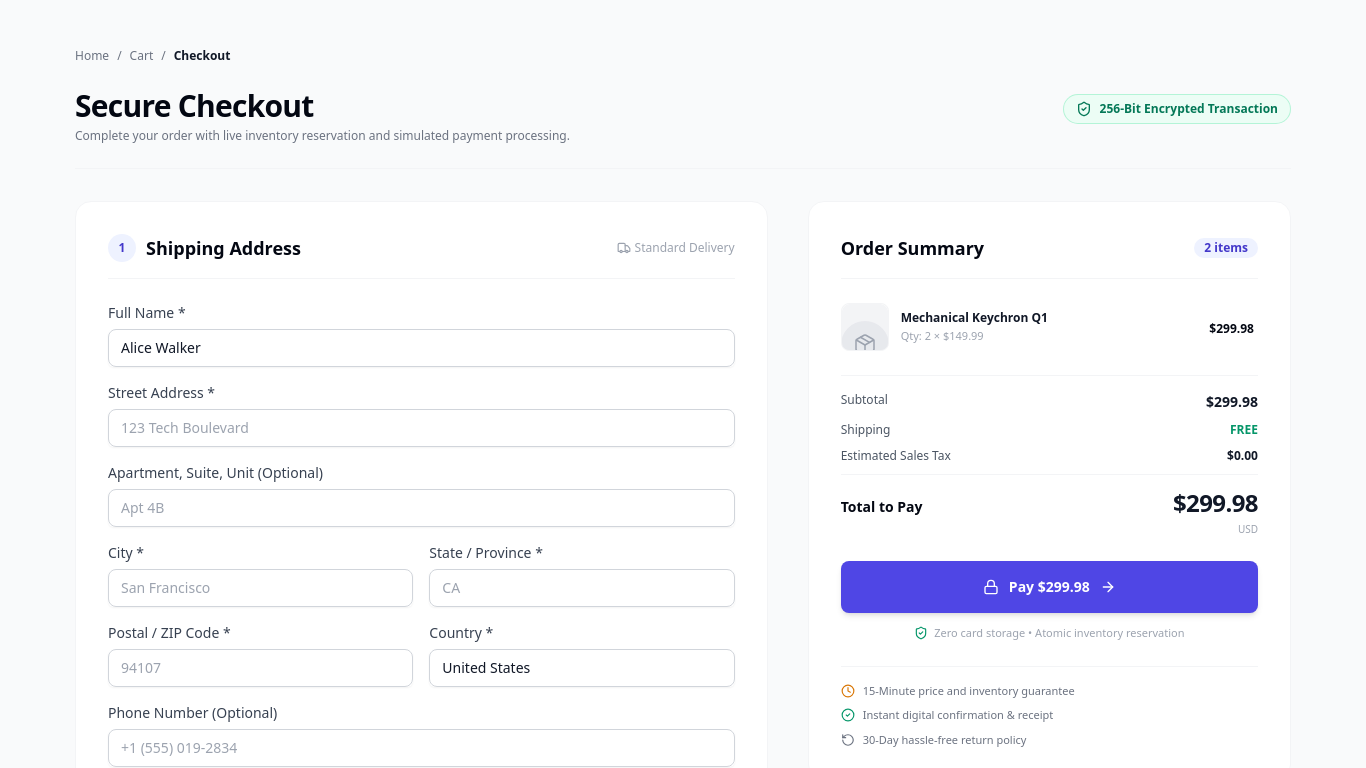
Checkout & Payment Integration (Phase 6) › submits checkout with shipping address and processes successful payment
This screenshot has width=1366, height=768.
Check: the heading "Secure Checkout" is shown, box [75,85,314,126]
Fill shipping address
Type "742 Evergreen Terrace" into the field labelled "Street Address *" at (421, 428), box [108,409,735,447]
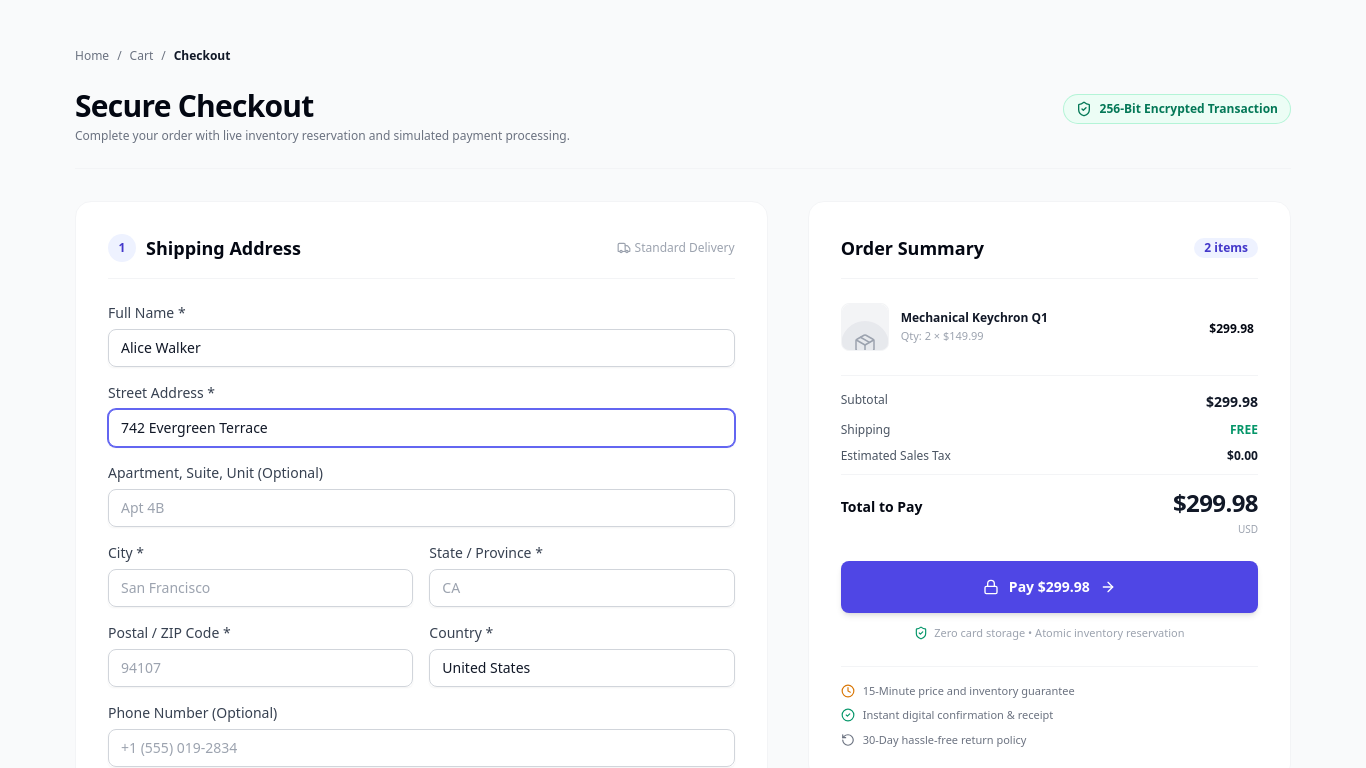
Type "Springfield" into the field labelled "City *" at (261, 588), box [108,569,413,607]
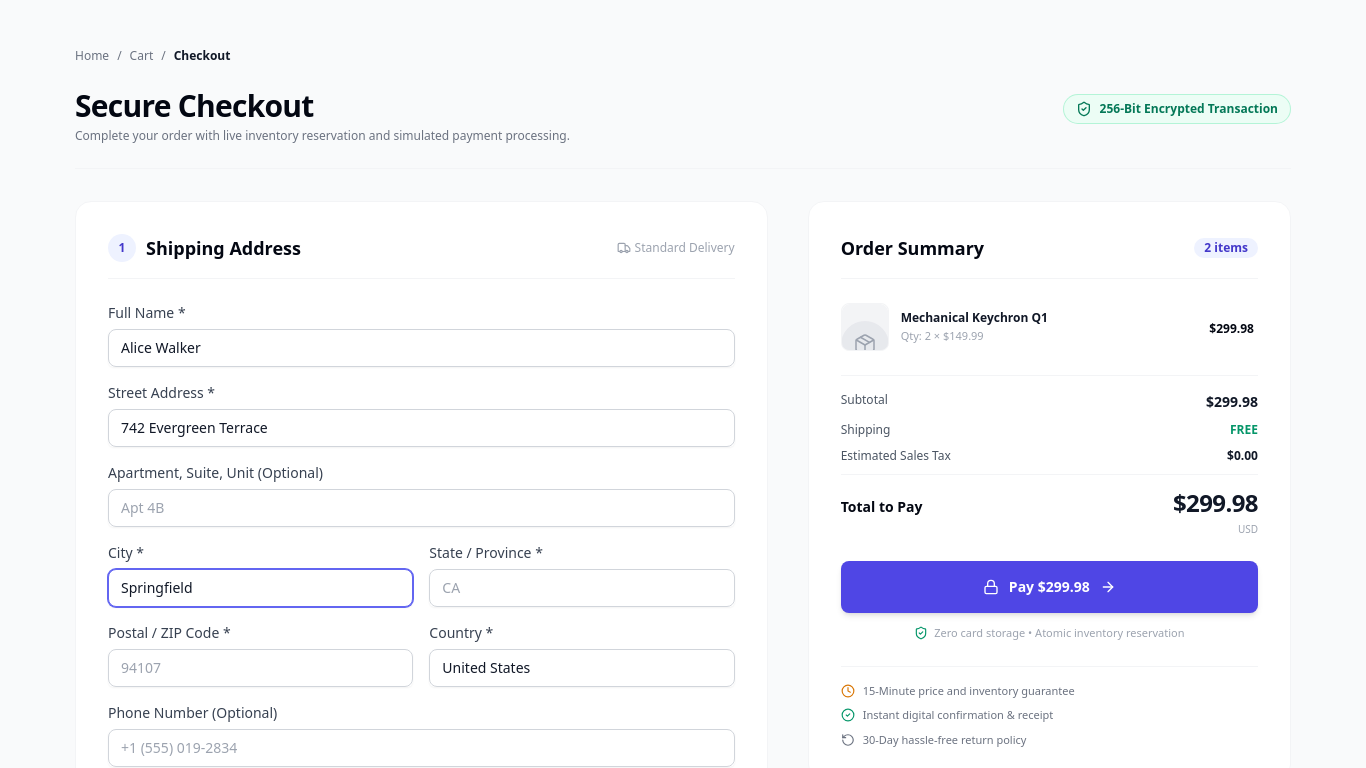
Type "OR" into the field labelled "State / Province *" at (582, 588), box [429,569,735,607]
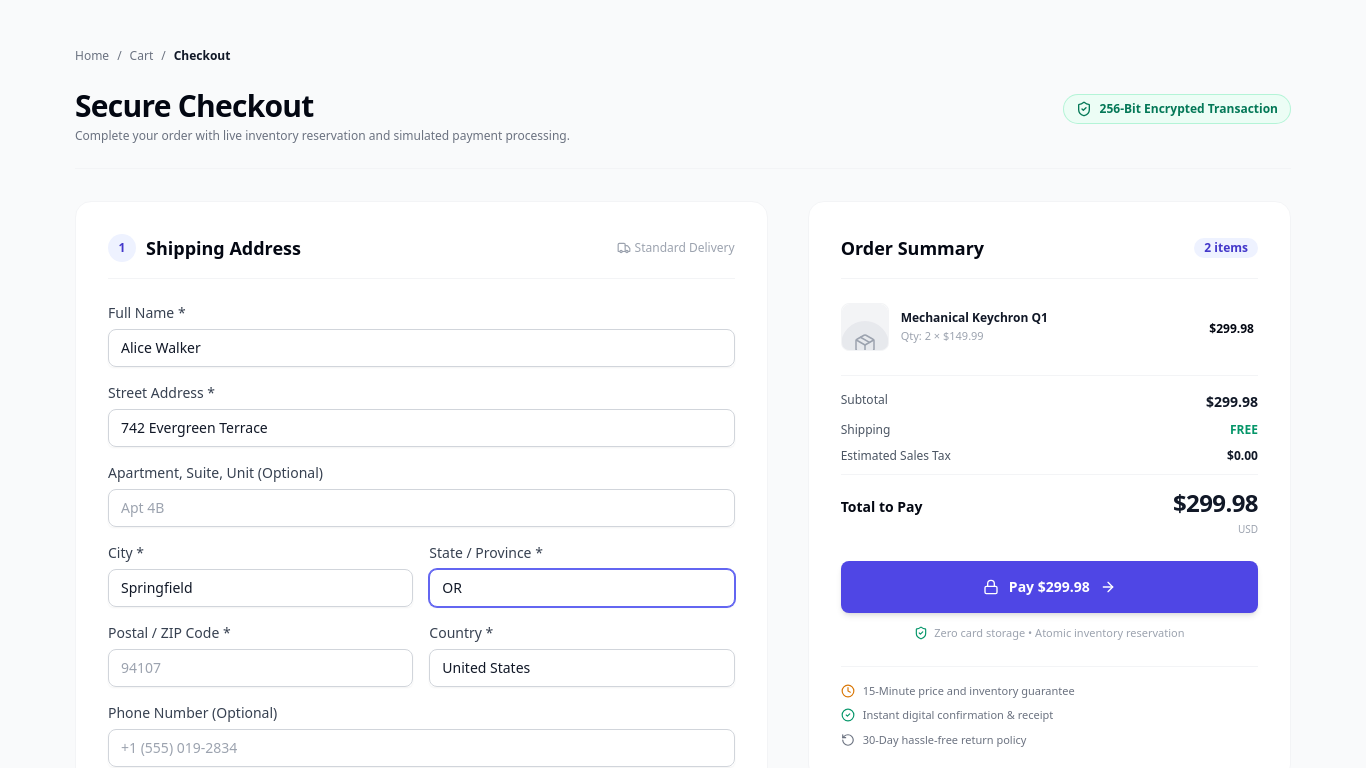
Type "97477" into the field labelled "Postal / ZIP Code *" at (261, 668), box [108,649,413,687]
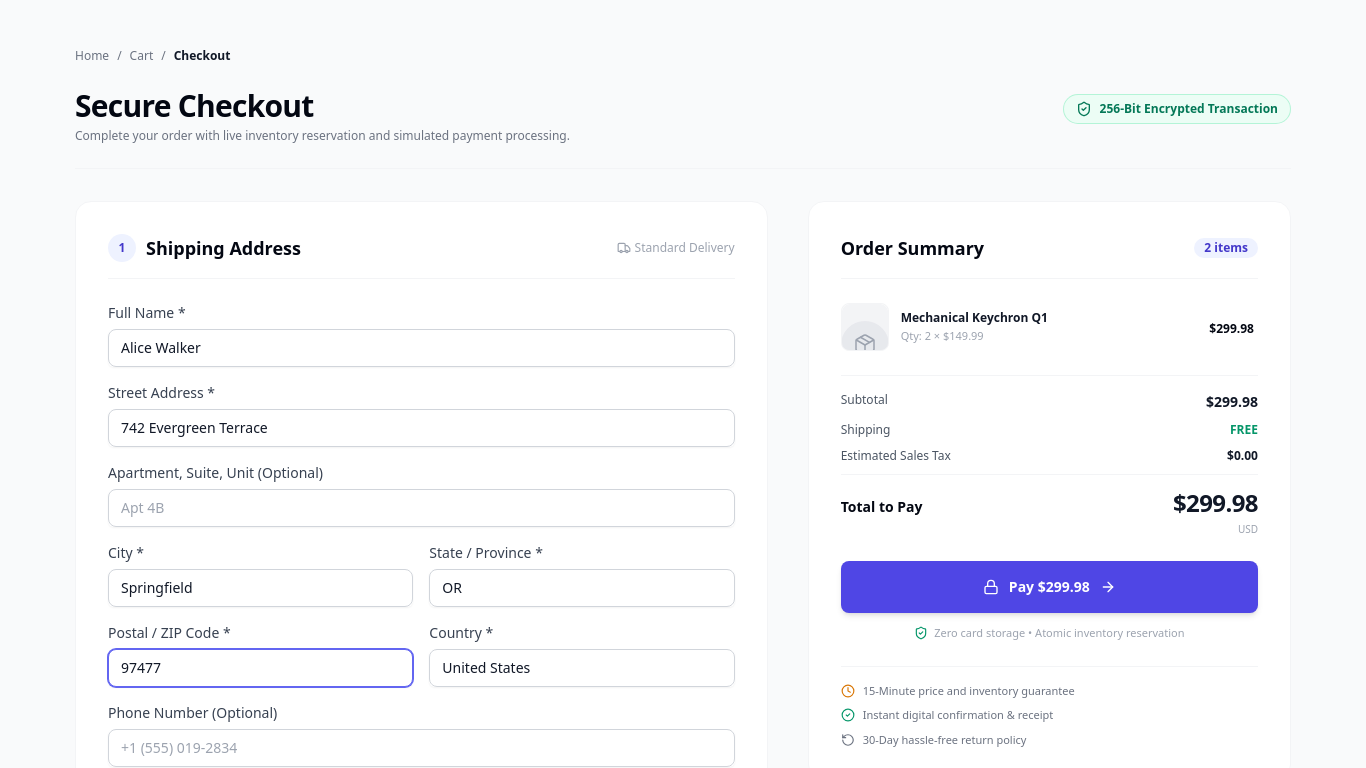
Submit checkout & pay
Click the button "Pay $299.98" at (1049, 587), box [841,561,1258,613]
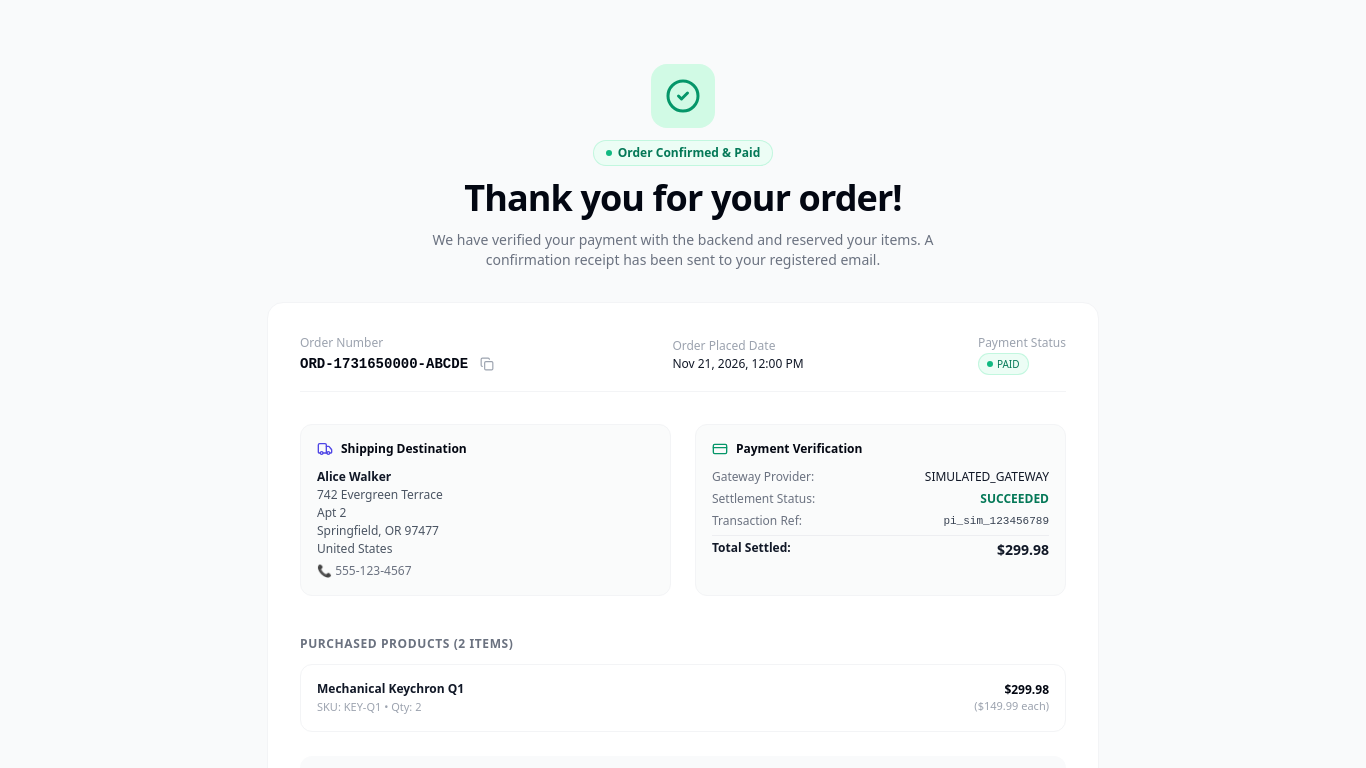
Check: the heading "Thank you for your order!" is shown, box [464,173,902,222]
Check: the text "ORD-1731650000-ABCDE" is shown, box [300,354,468,374]
Check: the text "Order Confirmed & Paid" is shown, box [593,140,773,166]
